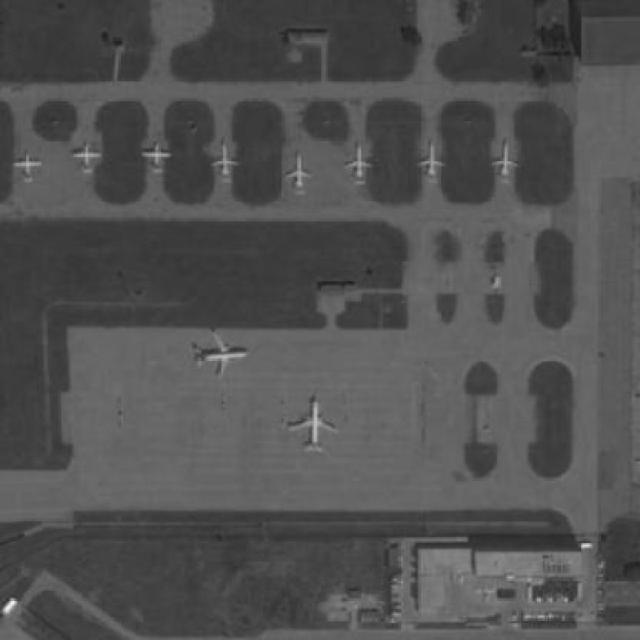airplane: (289, 401, 344, 455), (194, 332, 251, 384), (280, 152, 314, 193), (489, 138, 522, 179), (139, 139, 174, 175), (418, 139, 446, 182), (208, 144, 240, 181), (344, 143, 372, 185), (12, 152, 45, 186), (72, 144, 105, 176), (634, 383, 640, 414)
